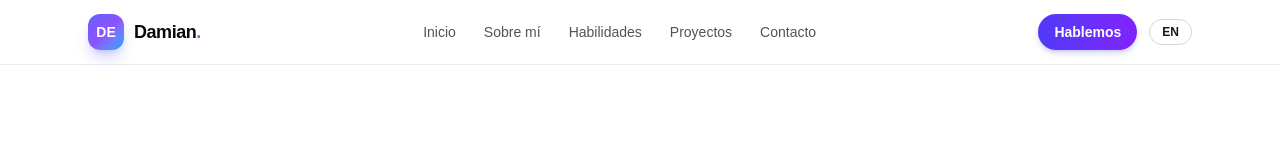
Test: Navbar › el botón de idioma alterna entre ES y EN
Click the button with aria-label "Cambiar a inglés" at (1171, 32), box [1149, 19, 1192, 45]
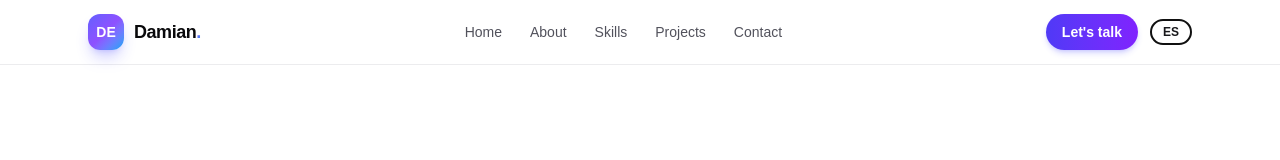
Check: the button with aria-label "Switch to Spanish" reads "ES", box [1150, 19, 1192, 45]
Check: the link "Home" is shown, box [465, 24, 502, 40]
